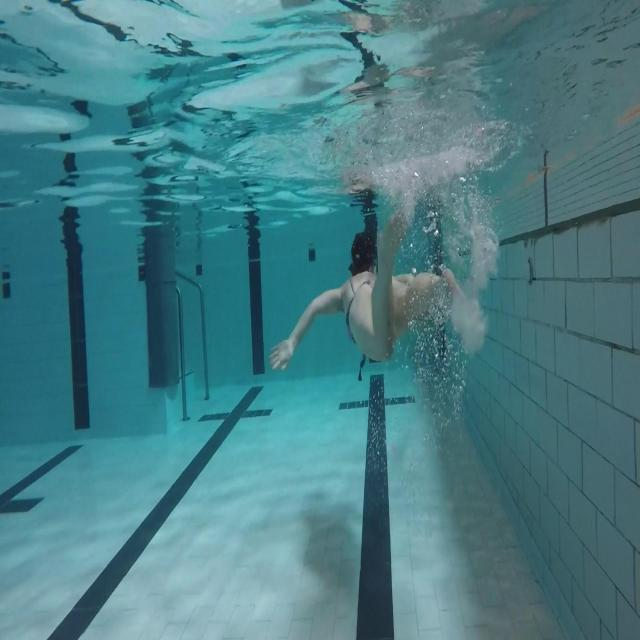human: (268, 202, 469, 382)
